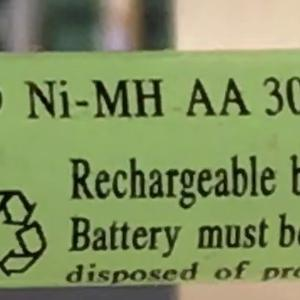keyword: (15, 69, 173, 129)
